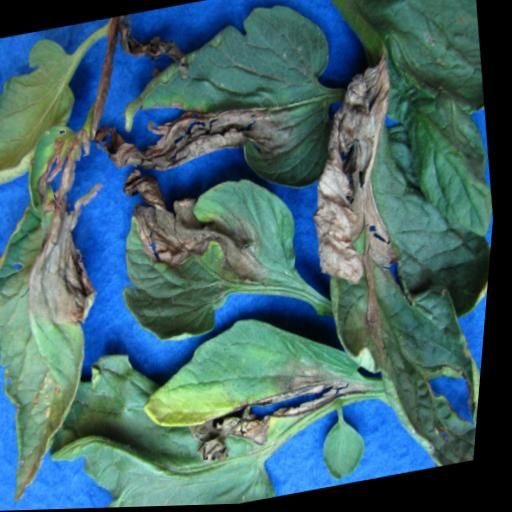Late Blight: (281, 83, 506, 483), (87, 0, 383, 227), (0, 136, 151, 508), (144, 298, 410, 506), (103, 166, 337, 354)
